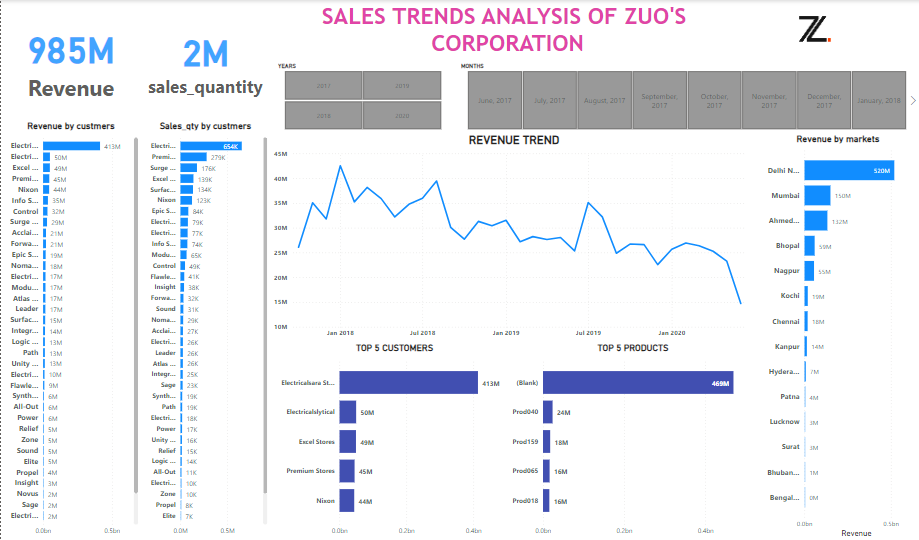

This screenshot's page, from the dashboard's own definition file:
{"tool":"powerbi","page":{"name":"Page 1","canvas":[1700,1000],"ordinal":0},"visuals":[{"type":"card","fields":{"Values":["conclusions.Revenue"]},"box":[0,53.7,236.5,223.1],"z":0},{"type":"card","fields":{"Values":["conclusions.sales_quantity"]},"box":[259.3,0,238.9,222.2],"z":1000},{"type":"card","fields":{"Values":["conclusions.Revenue"]},"box":[0,0,259.3,222.2],"z":2000},{"type":"barChart","title":"Revenue by custmers","fields":{"Category":["customers.custmer_name"],"Y":["conclusions.Revenue"]},"box":[0,222.2,259.3,777.8],"z":3000},{"type":"barChart","title":" Sales_qty by custmers","fields":{"Category":["customers.custmer_name"],"Y":["Sum(transactions.sales_qty)"]},"box":[259.3,222.2,238.9,777.8],"z":4000},{"type":"slicer","fields":{"Values":["date.year"]},"box":[500,111.1,338.9,135.2],"z":5000},{"type":"slicer","fields":{"Values":["date.cy_date"]},"box":[838.9,111.1,861.1,135.2],"z":6000},{"type":"barChart","title":"TOP 5 CUSTOMERS","fields":{"Category":["customers.custmer_name"],"Y":["conclusions.Revenue"]},"box":[500,633.3,457.4,366.7],"z":7000},{"type":"barChart","title":" TOP 5 PRODUCTS","fields":{"Category":["products.product_code"],"Y":["conclusions.Revenue"]},"box":[940.7,633.3,459.3,366.7],"z":8000},{"type":"lineChart","title":"REVENUE TREND","fields":{"Y":["conclusions.Revenue"],"Category":["date.cy_date.Variation.Date Hierarchy.Year","date.cy_date.Variation.Date Hierarchy.Quarter","date.cy_date.Variation.Date Hierarchy.Month","date.cy_date.Variation.Date Hierarchy.Day"]},"box":[500,246.3,900,388.9],"z":9000},{"type":"textbox","box":[500,0,875.9,111.1],"z":10000},{"type":"barChart","title":"Revenue by markets","fields":{"Y":["conclusions.Revenue"],"Category":["markets.markets_name"]},"box":[1400,246.3,300,753.7],"z":11000},{"type":"image","box":[1314.8,0,385.2,111.1],"z":12000}]}

Visuals, with their boxes in screenshot pixels (x1, y1, x2, y2), scaled from the page's 1700x1000 canvas onto the 919x540 screenshot:
card - conclusions.Revenue: [0, 29, 128, 149]
card - conclusions.sales_quantity: [140, 0, 269, 120]
card - conclusions.Revenue: [0, 0, 140, 120]
"Revenue by custmers" barChart: [0, 120, 140, 539]
" Sales_qty by custmers" barChart: [140, 120, 269, 539]
slicer - date.year: [270, 60, 453, 133]
slicer - date.cy_date: [453, 60, 918, 133]
"TOP 5 CUSTOMERS" barChart: [270, 342, 518, 539]
" TOP 5 PRODUCTS" barChart: [509, 342, 757, 539]
"REVENUE TREND" lineChart: [270, 133, 757, 343]
textbox: [270, 0, 744, 60]
"Revenue by markets" barChart: [757, 133, 918, 539]
image: [711, 0, 918, 60]
